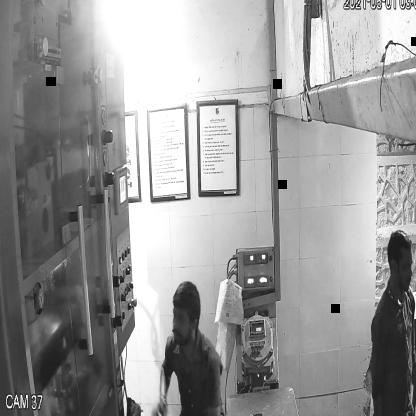no_goggles: (168, 304, 199, 332)
